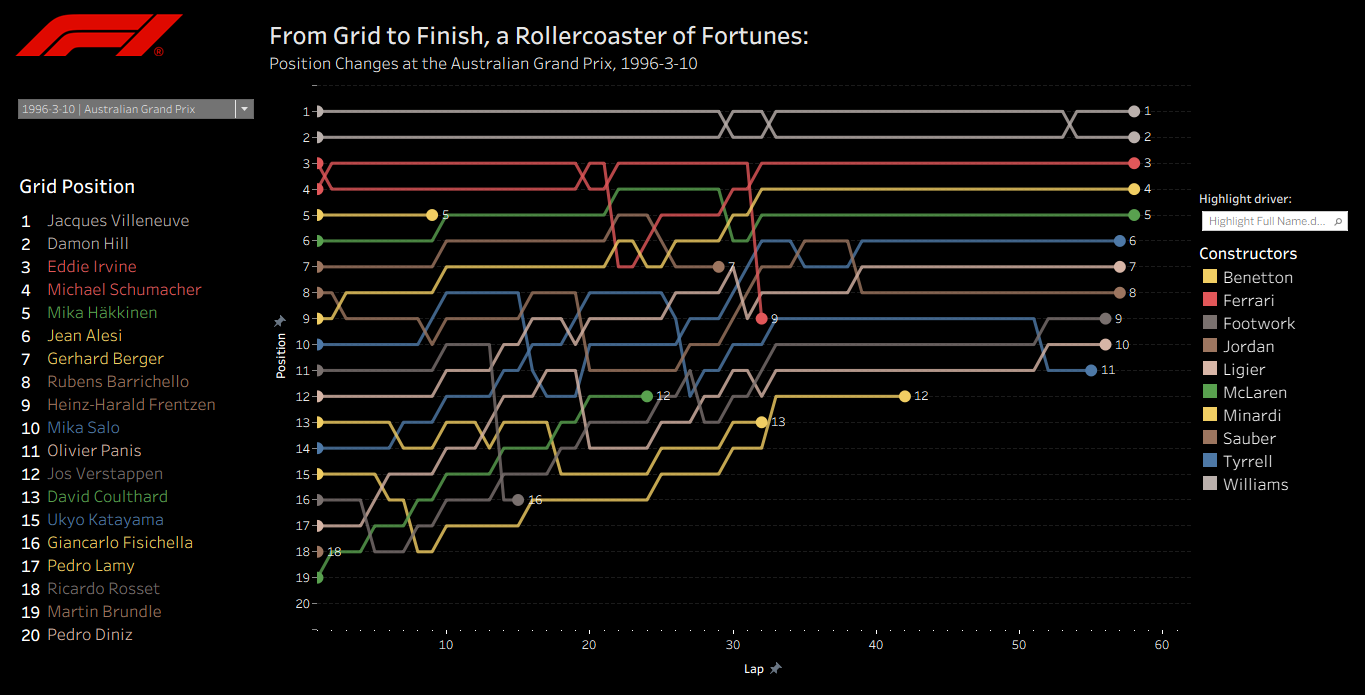

What the dashboard file says about the page in this screenshot:
{"tool":"tableau","page":{"name":"Lap Places by Race","canvas":[1000,1000],"units":"permille","ordinal":1},"visuals":[{"type":"image","param":"D:/Repos/F1_Stats_Tableau/img/F1_Logo.png","box":[8.2,14.3,219.5,89.3]},{"type":"worksheet","title":"Lap Places","mark":"Line","rows":["position (lap_times.csv)","Calculation_757449209086349320"],"cols":["lap"],"box":[227.7,14.3,623.7,971.4]},{"type":"blank","box":[851.4,14.3,140.5,194.6]},{"type":"blank","box":[8.2,103.6,219.5,57.1]},{"type":"filter","title":"Lap Places","param":"[federated.1gciksz1by2j2j1de8jam11lnjzv].[none:Calculation_943504170135990276:nk","box":[8.2,160.7,219.5,60.7]},{"type":"highlighter","title":"Lap Places","param":"[federated.1gciksz1by2j2j1de8jam11lnjzv].[none:Calculation_757449209060581382:nk","box":[851.4,208.9,140.5,92.9]},{"type":"blank","box":[8.2,221.5,219.5,57.1]},{"type":"worksheet","title":"Grid Position","mark":"Automatic","rows":["grid (results.csv1)"],"box":[8.2,278.6,219.5,650]},{"type":"legend","title":"Grid Position","param":"[federated.1gciksz1by2j2j1de8jam11lnjzv].[none:name (constructors.csv1):nk]","box":[851.4,301.8,140.5,489.3]},{"type":"blank","box":[851.4,791.1,140.5,194.6]},{"type":"blank","box":[8.2,928.6,219.5,57.1]}]}

Visuals, with their boxes on the dashboard's canvas, which has no fixed pixel size, in thousandths of its width and height (x1, y1, x2, y2). These are canvas units, not pixel positions in the 1365x695 screenshot, which may show the page scaled, cropped or inside an application window:
image: (x1=8, y1=14, x2=228, y2=104)
"Lap Places" worksheet (Line marks): (x1=228, y1=14, x2=851, y2=986)
blank: (x1=851, y1=14, x2=992, y2=209)
blank: (x1=8, y1=104, x2=228, y2=161)
"Lap Places" filter: (x1=8, y1=161, x2=228, y2=221)
"Lap Places" highlighter: (x1=851, y1=209, x2=992, y2=302)
blank: (x1=8, y1=222, x2=228, y2=279)
"Grid Position" worksheet: (x1=8, y1=279, x2=228, y2=929)
"Grid Position" legend: (x1=851, y1=302, x2=992, y2=791)
blank: (x1=851, y1=791, x2=992, y2=986)
blank: (x1=8, y1=929, x2=228, y2=986)
